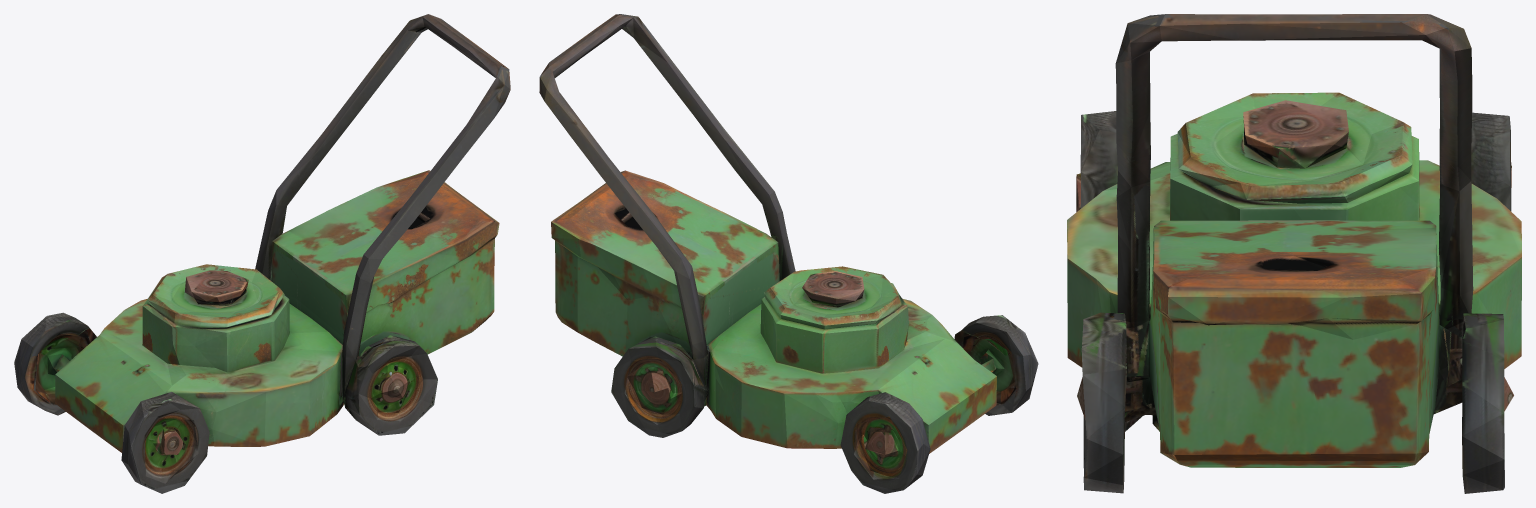
File: make_a_1500_triangle__0607033336_texture.fbx
3 renders of one model, left to right at view 1: azimuth 30°, elevation 25°; view 2: azimuth 150°, elevation 25°; view 3: azimuth 270°, elevation 25°, orthographic. The views are drawn at different scales.
Parts seen in each view (by area): view 1: temp; view 2: temp; view 3: temp.
Boxes of the visible parts, x1,y1,x2,y2 form: temp: (14, 14, 510, 493); temp: (539, 14, 1038, 493); temp: (1067, 14, 1521, 493).
Bounding box in the file's own units: 201 × 155 × 109.
Materials: 1 (1 with a texture image).
